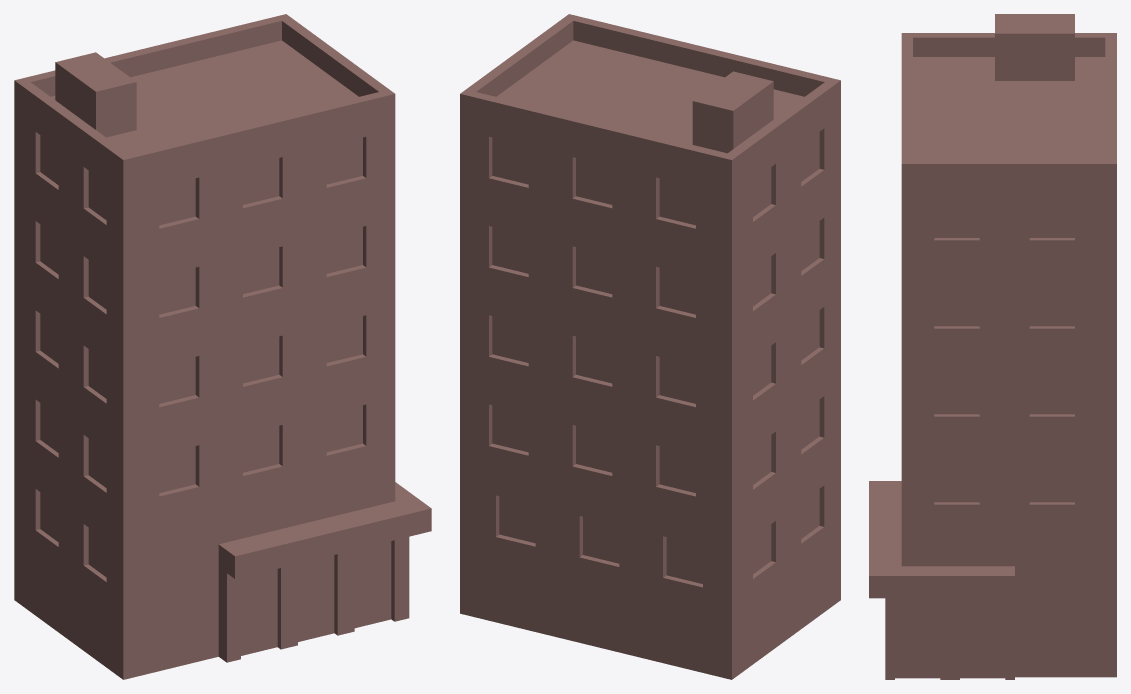
File: Building3.fbx
3 views of the same model, side by side, from view 1: azimuth 30°, elevation 25°; view 2: azimuth 150°, elevation 25°; view 3: azimuth 270°, elevation 25° (orthographic).
Parts seen in each view (by area): view 1: Cube.005; view 2: Cube.005; view 3: Cube.005.
Part boxes in pixels (x1,y1,x2,y2): Cube.005: (14, 14, 431, 679); Cube.005: (460, 14, 840, 679); Cube.005: (869, 14, 1116, 679).
Size of the model in its own units: 1026 by 1844 by 764.
